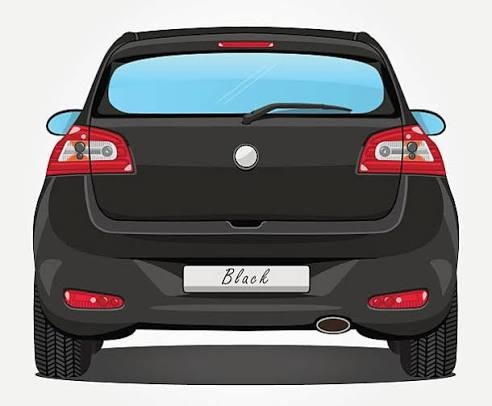car: (22, 4, 450, 398), (26, 16, 455, 391), (80, 34, 441, 255)
